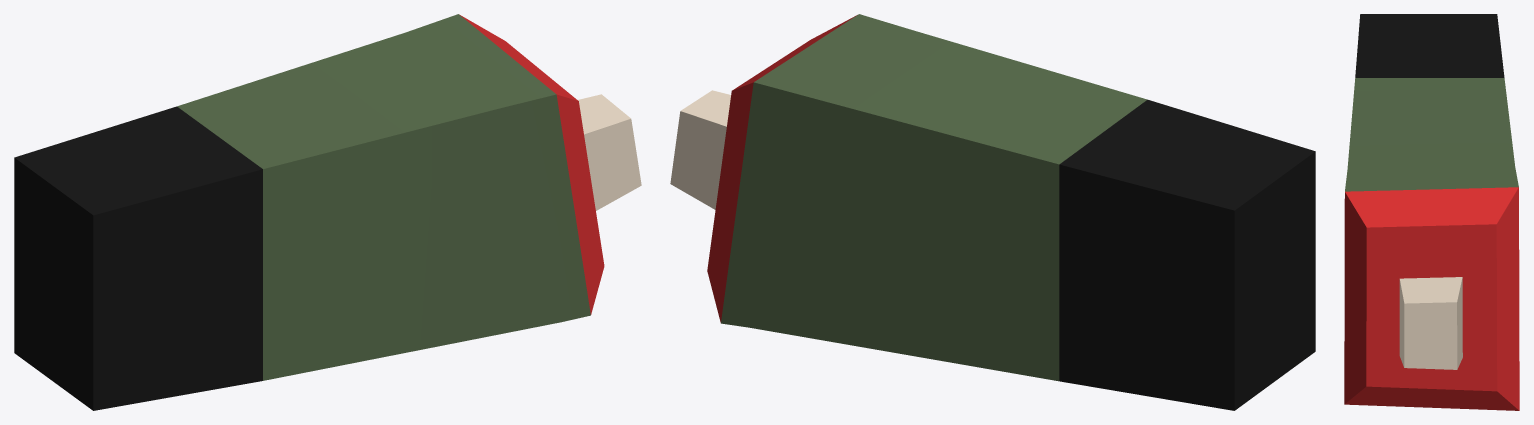
The model's file is CombatantZombie2RightForearm.glb.
The picture shows the model from 3 angles, left to right: view 1: azimuth 30°, elevation 25°; view 2: azimuth 150°, elevation 25°; view 3: azimuth 270°, elevation 25°; orthographic projection. The views are drawn at different scales.
Parts seen in each view (by area): view 1: CombatantZombie2RightForearm; view 2: CombatantZombie2RightForearm; view 3: CombatantZombie2RightForearm.
Boxes of the visible parts, left/top/right/bottom form: CombatantZombie2RightForearm: left=14, top=14, right=641, bottom=410; CombatantZombie2RightForearm: left=670, top=14, right=1315, bottom=410; CombatantZombie2RightForearm: left=1344, top=14, right=1519, bottom=410.
Bounding box in the file's own units: 2.58 × 1.05 × 0.7895.
Materials: 1 (1 with a texture image).
